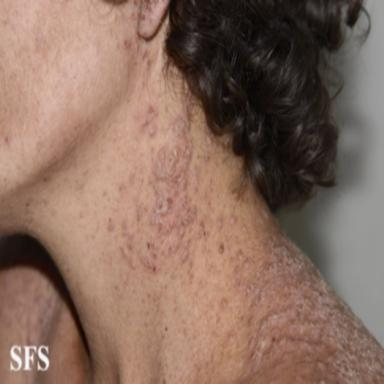Darier_s-Disease: (106, 0, 384, 383)
